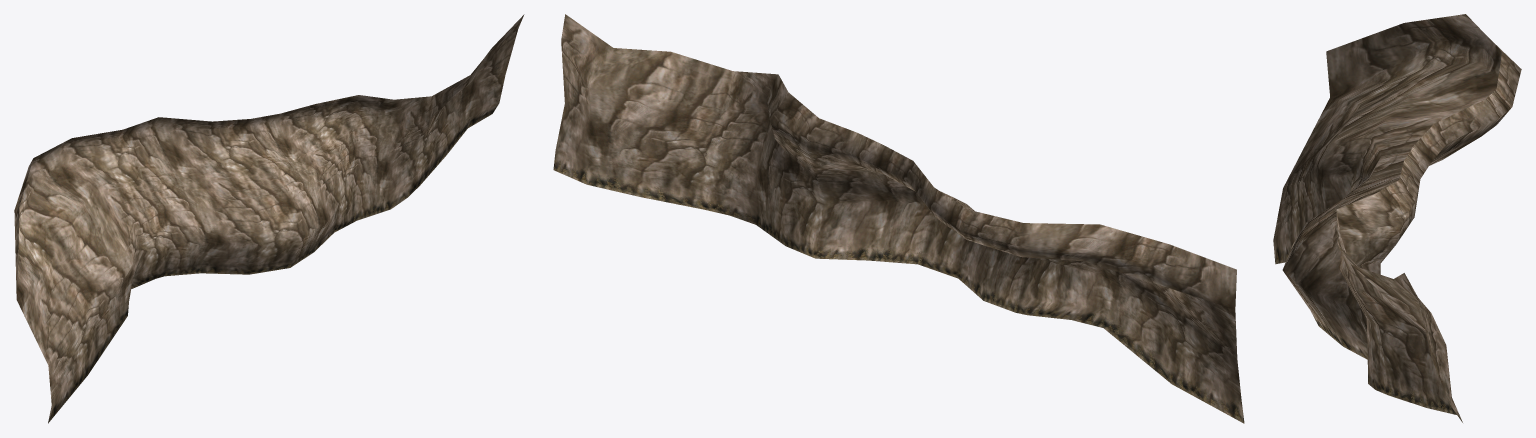
Rendered from OVERHILL_A_01_LINE14.fbx.
3 views of the same model, side by side, from view 1: azimuth 30°, elevation 25°; view 2: azimuth 150°, elevation 25°; view 3: azimuth 270°, elevation 25° (orthographic). The views are drawn at different scales.
Parts seen in each view (by area): view 1: OVERHILL_A_01_LINE14; view 2: OVERHILL_A_01_LINE14; view 3: OVERHILL_A_01_LINE14.
Part boxes in pixels (bbox=[...]): OVERHILL_A_01_LINE14: bbox=[14, 14, 524, 423]; OVERHILL_A_01_LINE14: bbox=[553, 14, 1244, 423]; OVERHILL_A_01_LINE14: bbox=[1273, 14, 1521, 422].
Size of the model in its own units: 253917 by 113089 by 72464.
Materials: 2 (2 with a texture image).
